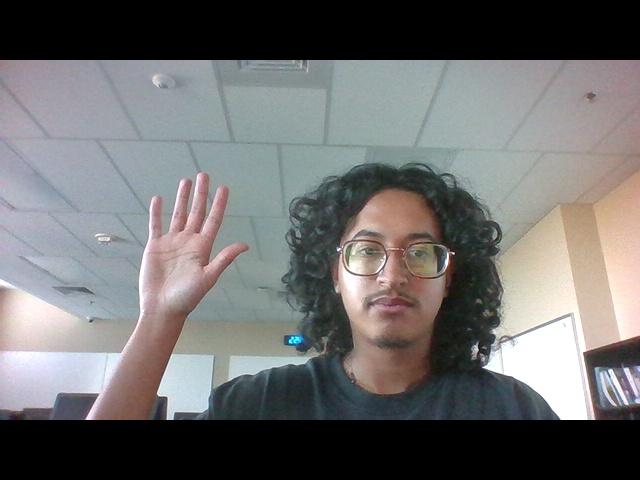hello: (131, 167, 253, 323)
